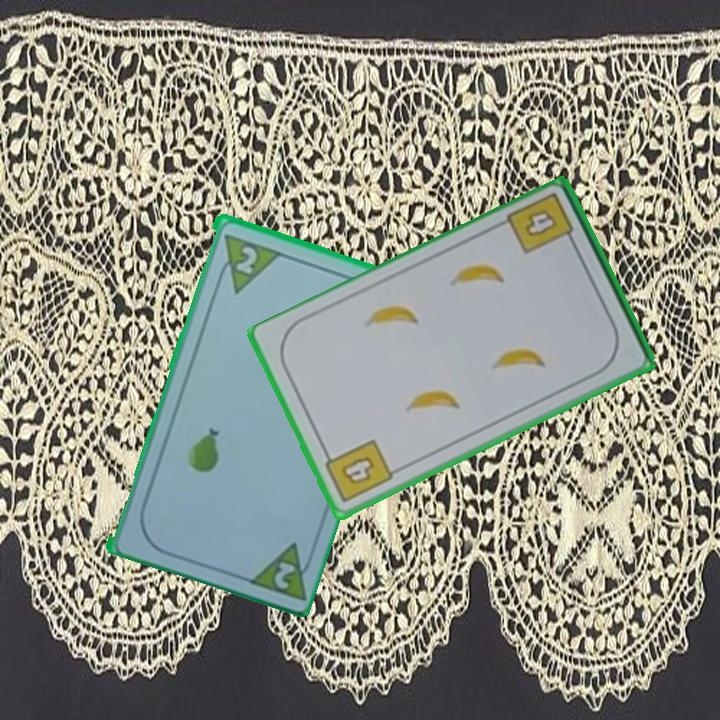2p: (242, 537, 318, 603), (231, 242, 260, 277)
4b: (319, 436, 396, 506), (504, 189, 579, 258)
